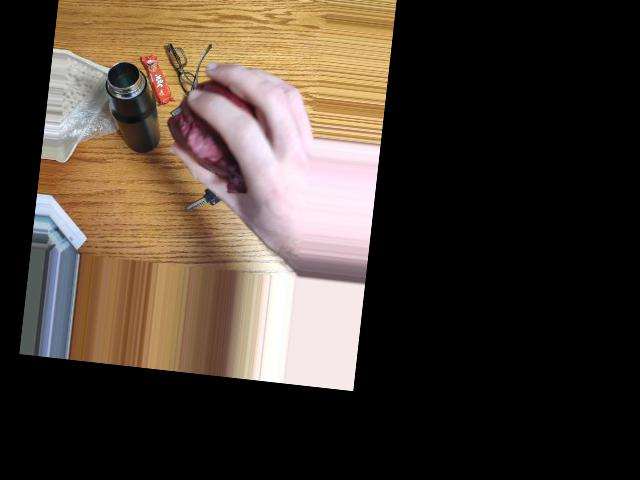onion: (171, 73, 259, 168)
